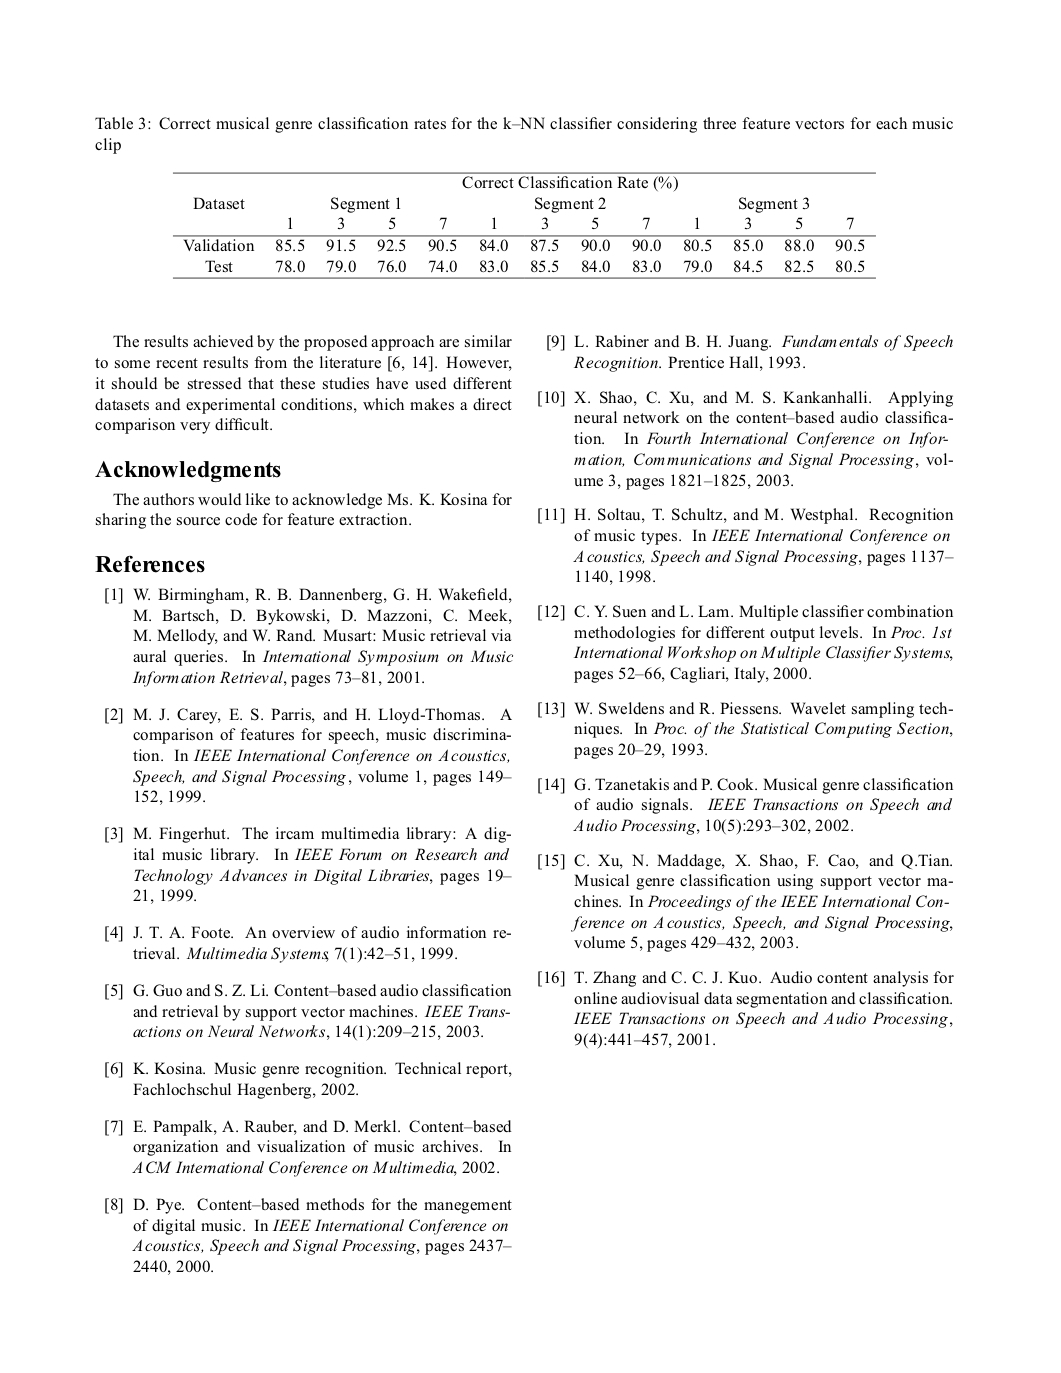Table: (173, 172, 875, 277)
